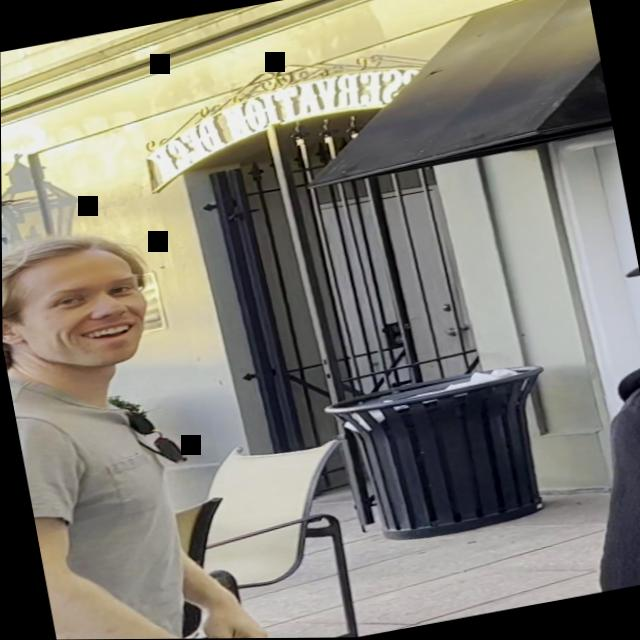NO-Mask: (1, 238, 162, 385)
